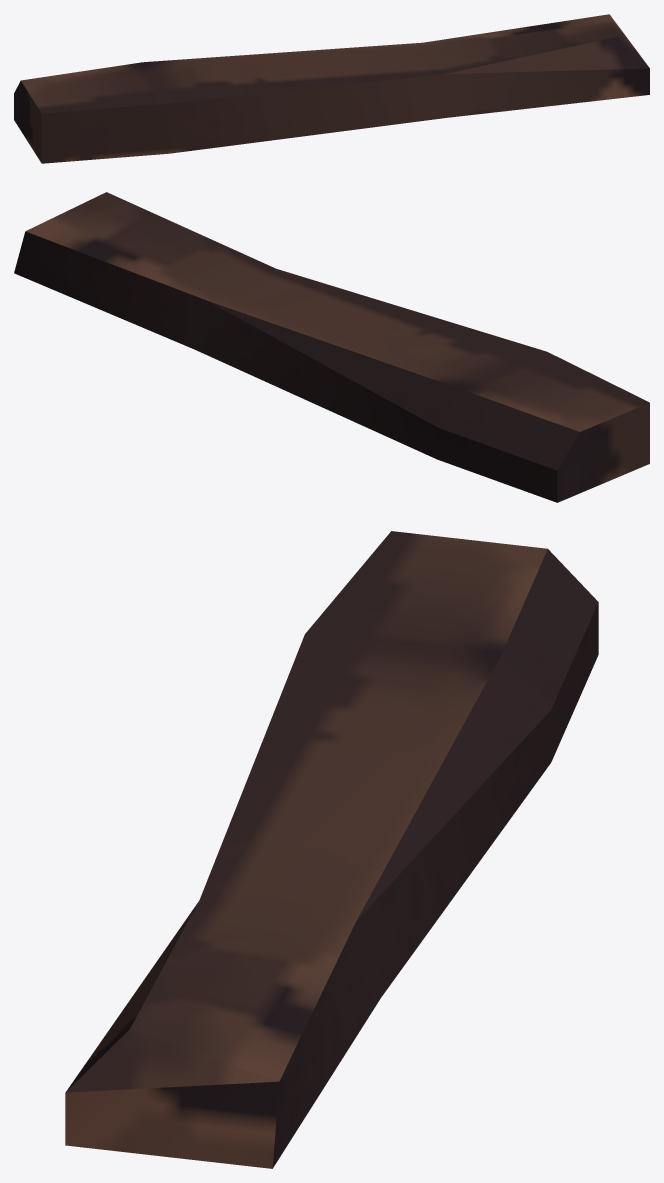
Rendered from bridge_14.FBX.
The picture shows the model from 3 angles, top to bottom: view 1: azimuth 30°, elevation 25°; view 2: azimuth 150°, elevation 25°; view 3: azimuth 270°, elevation 25°; orthographic projection. The views are drawn at different scales.
Parts seen in each view (by area): view 1: bridge_14; view 2: bridge_14; view 3: bridge_14.
Boxes of the visible parts, x1,y1,x2,y2 form: bridge_14: (14,14,649,163); bridge_14: (14,192,649,502); bridge_14: (65,531,598,1168).
Size of the model in its own units: 3.64 by 0.3166 by 1.52.
